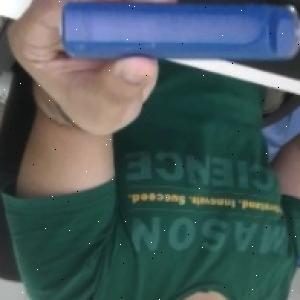Diamond-E-Ciggirate: (61, 3, 300, 61)
